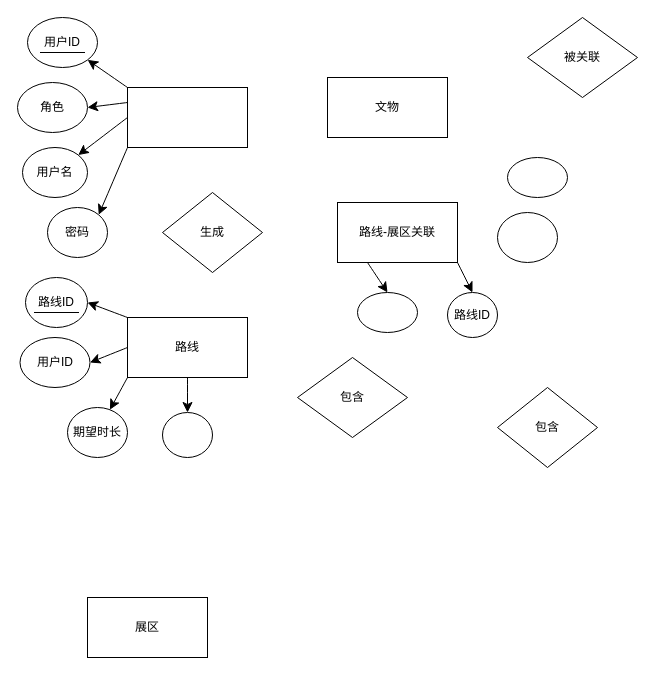
Some shapes in this 655 by 675 pixel diagram are drawn without their labels. The shapes that lost their labels are listed below. From the top down, each one's centre as x and y in pixels, then its label:
point (187, 117): 用户
point (537, 177): 顺序
point (527, 237): 展区ID
point (387, 312): 关联ID
point (187, 435): 总时长
